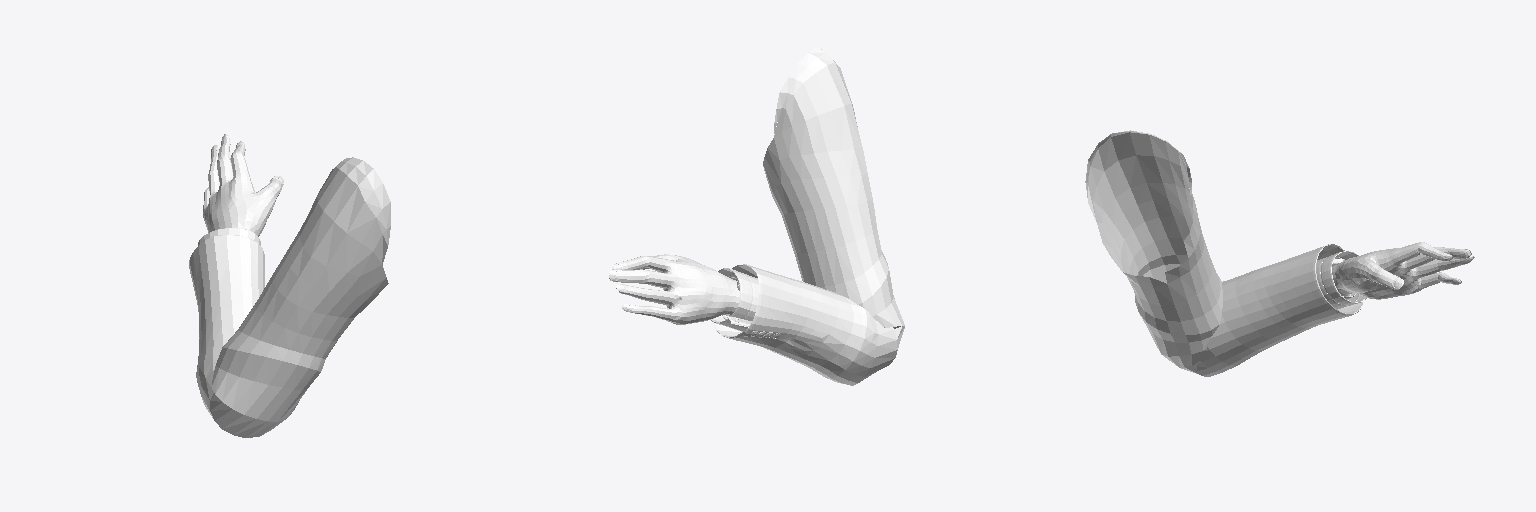
File: artemNormal_Brazo.obj
The picture shows the model from 3 angles: view 1: azimuth 30°, elevation 25°; view 2: azimuth 150°, elevation 25°; view 3: azimuth 270°, elevation 25°; orthographic projection.
Visible parts, largest first — view 1: Object; view 2: Object; view 3: Object.
Boxes of the visible parts, x1,y1,x2,y2 form: Object: [189, 134, 390, 437]; Object: [609, 47, 904, 385]; Object: [1085, 130, 1474, 376].
Bounding box in the file's own units: 1.16 × 1.77 × 2.22.